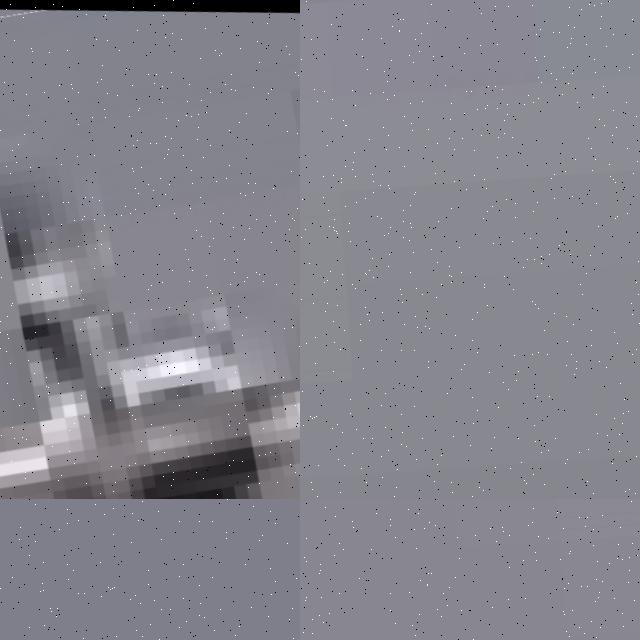drone: (0, 0, 300, 499)
